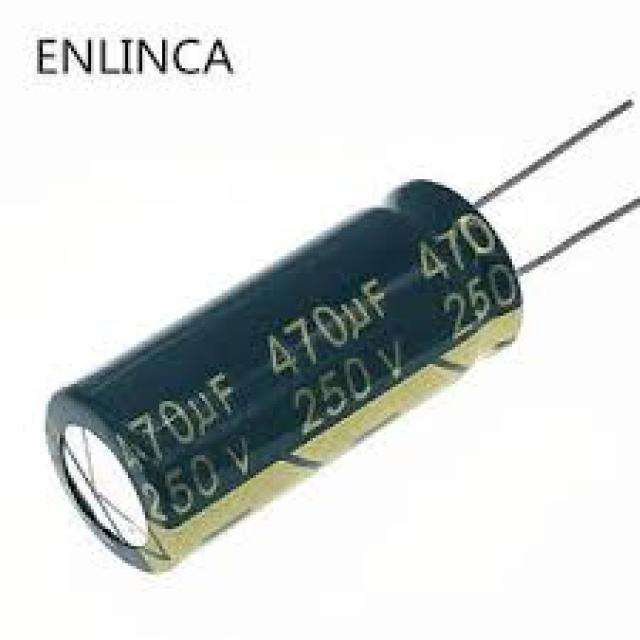Capacitor: (46, 182, 523, 575)
